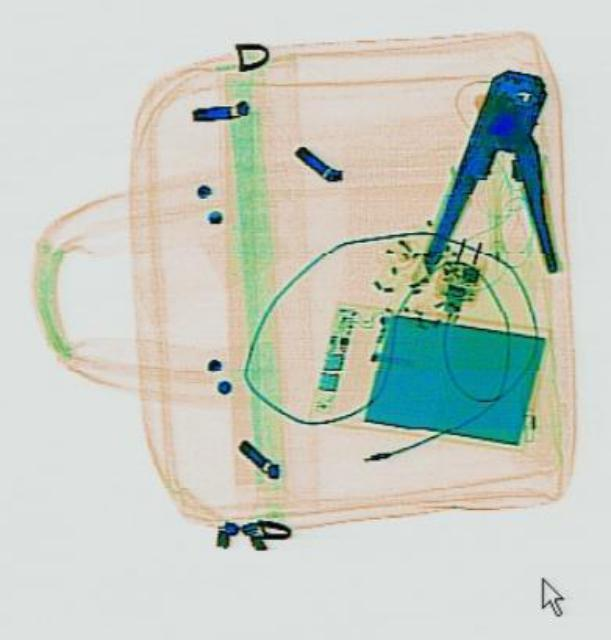Pliers: (420, 57, 591, 286)
